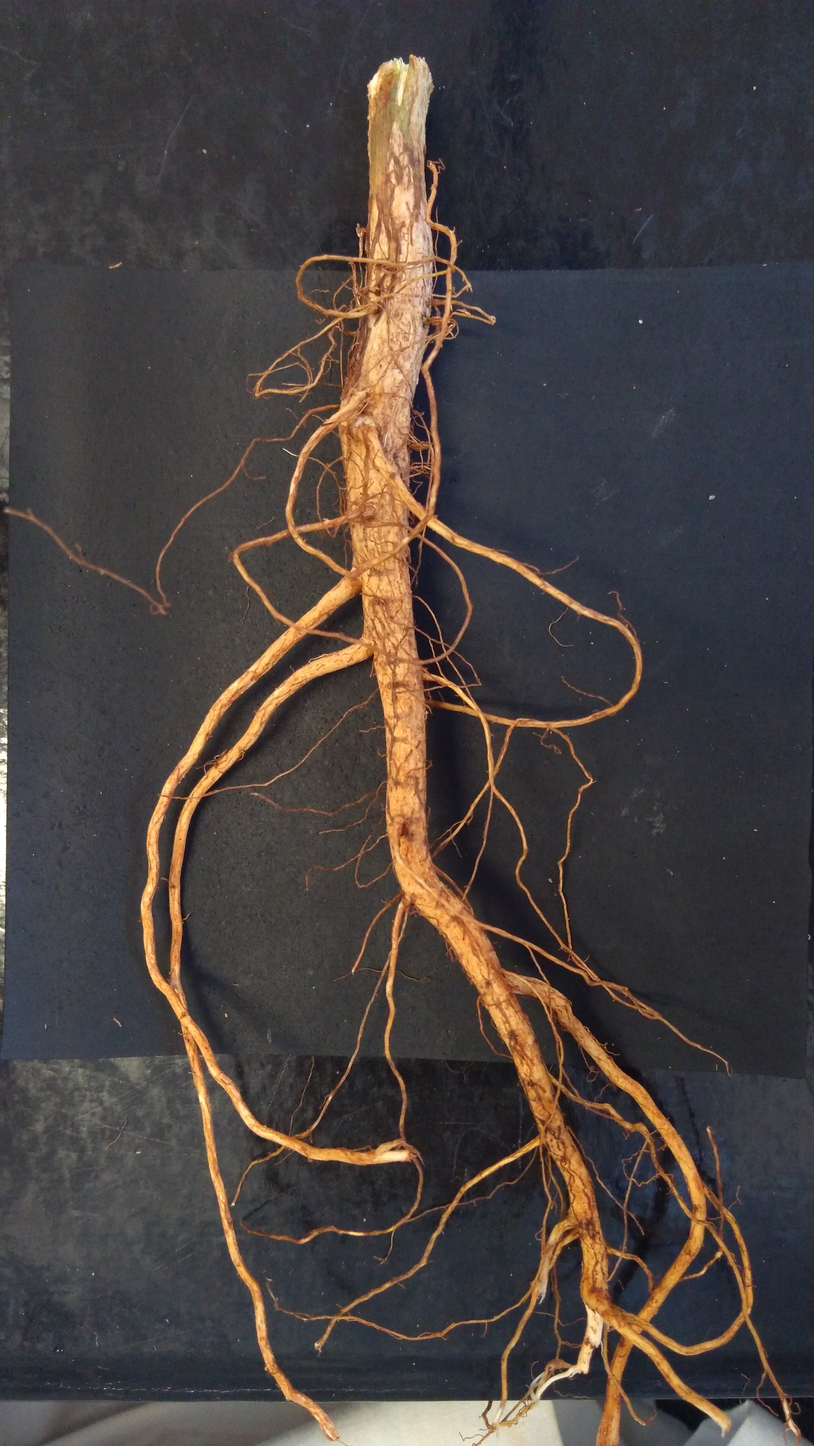nodule: (340, 395, 365, 428), (429, 315, 442, 326), (355, 227, 365, 238)
